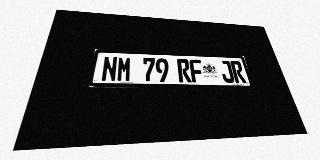7: (142, 58, 156, 82)
9: (155, 58, 170, 82)
F: (189, 59, 204, 82)
J: (219, 60, 235, 83)
M: (116, 57, 132, 82)
N: (101, 56, 118, 82)
R: (230, 61, 247, 83), (177, 59, 192, 82)
